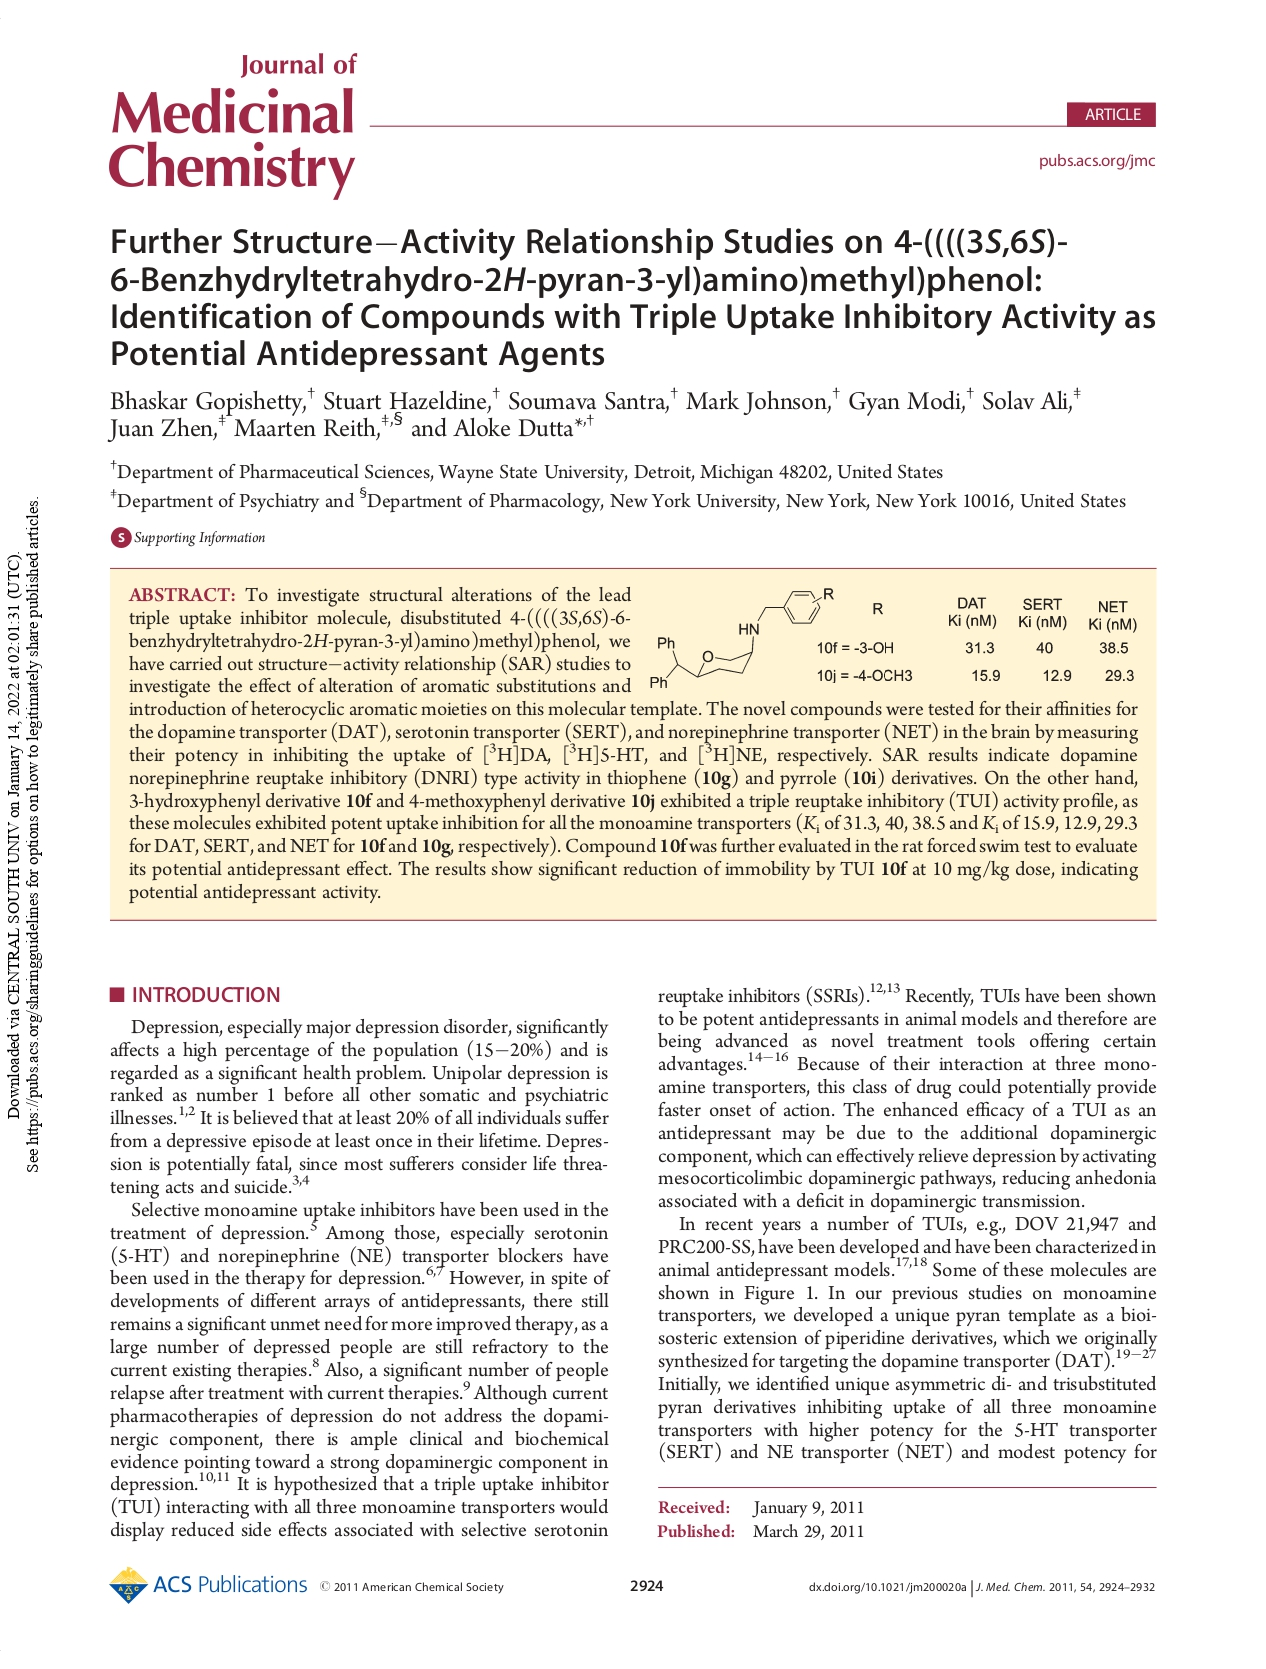exist_molecular: (648, 582, 836, 693)
